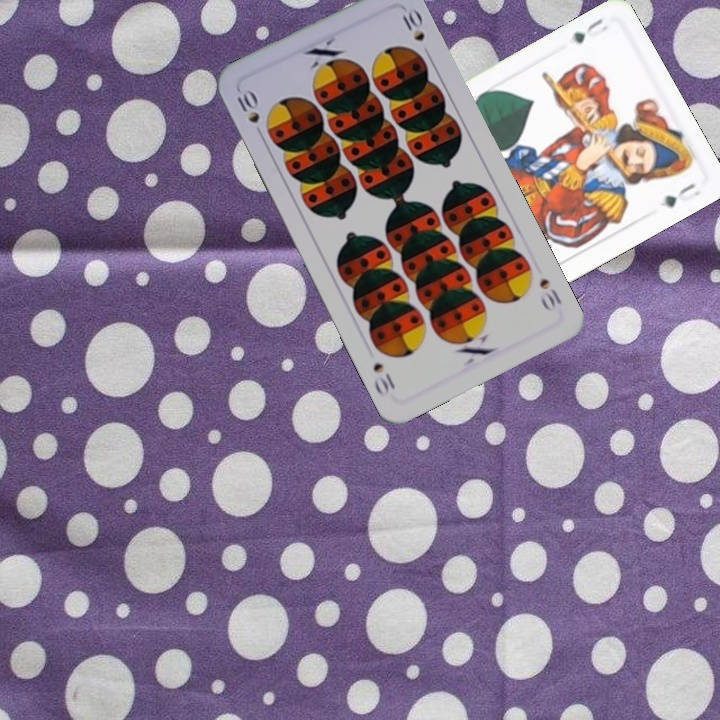GU: (568, 13, 611, 47)
S10: (535, 274, 565, 314), (233, 85, 262, 126)
